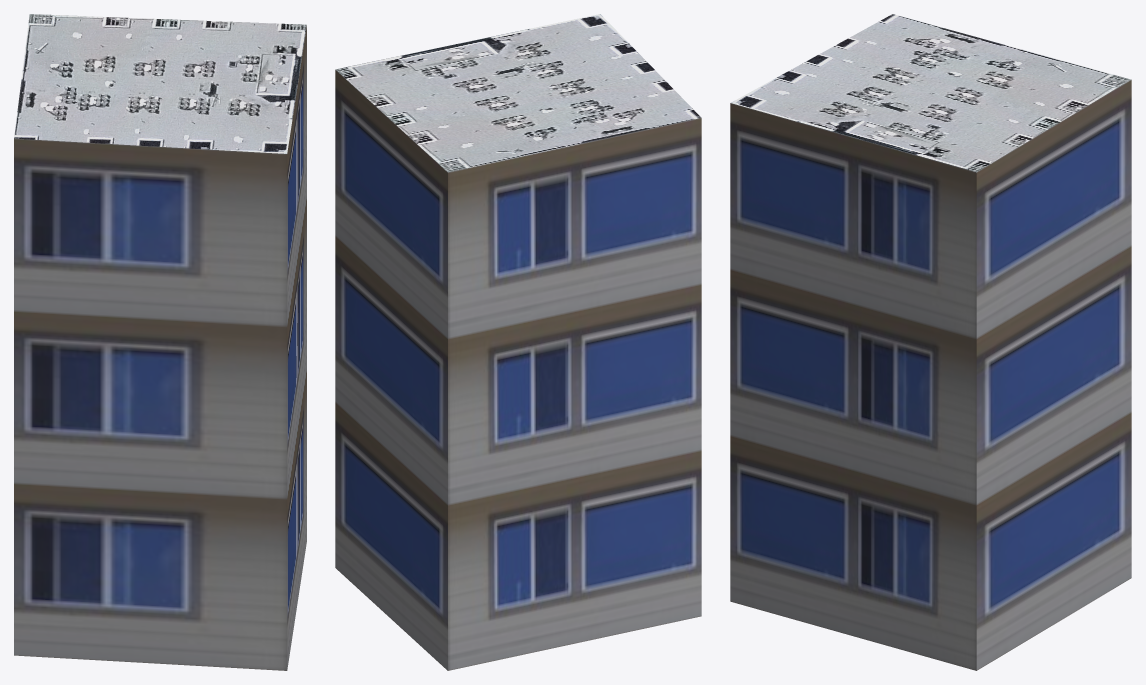
The model's file is ResTex__4971.fbx.
3 views of the same model, side by side, from view 1: azimuth 30°, elevation 25°; view 2: azimuth 150°, elevation 25°; view 3: azimuth 270°, elevation 25° (orthographic). The views are drawn at different scales.
Visible parts, largest first — view 1: CityEngineMaterial_23_m, CityEngineMaterial_8_m; view 2: CityEngineMaterial_23_m, CityEngineMaterial_8_m; view 3: CityEngineMaterial_23_m, CityEngineMaterial_8_m.
Part boxes in pixels (x1,y1,x2,y2): CityEngineMaterial_23_m: (14, 25, 306, 670); CityEngineMaterial_8_m: (14, 14, 306, 153); CityEngineMaterial_23_m: (335, 70, 701, 670); CityEngineMaterial_8_m: (335, 14, 701, 172); CityEngineMaterial_23_m: (730, 79, 1131, 670); CityEngineMaterial_8_m: (731, 14, 1130, 172).
Bounding box in the file's own units: 6.13 × 9 × 6.56.
2 materials, 2 textured.
